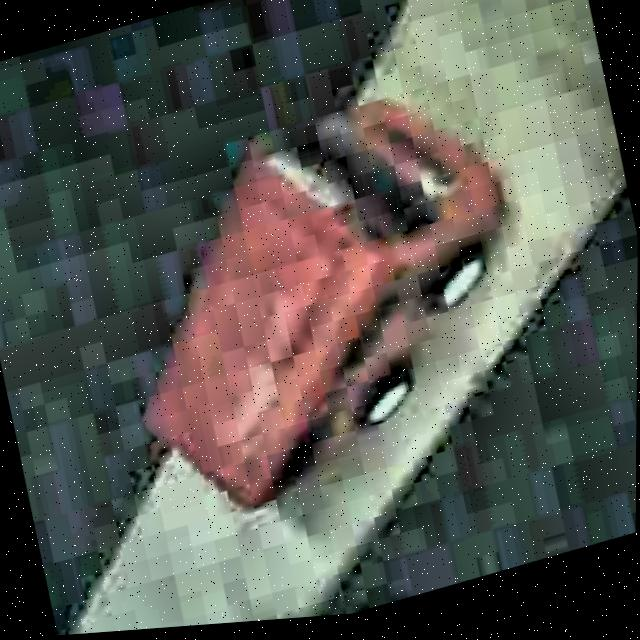bus: (86, 58, 558, 544)
